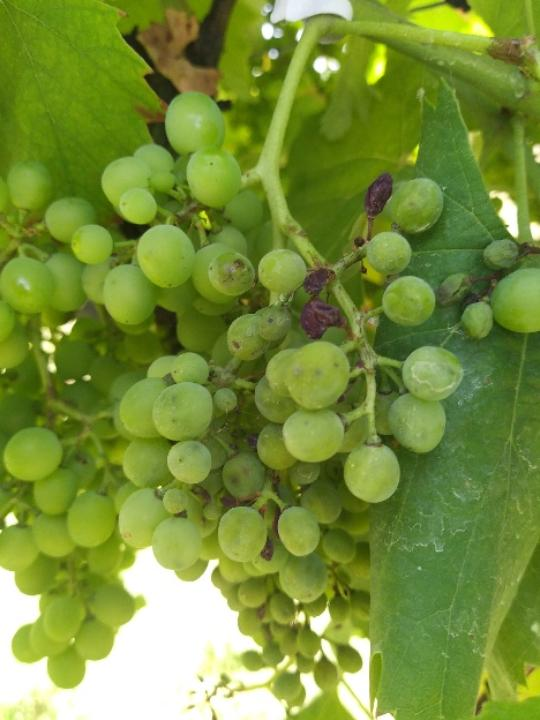grape: (70, 88, 467, 605)
